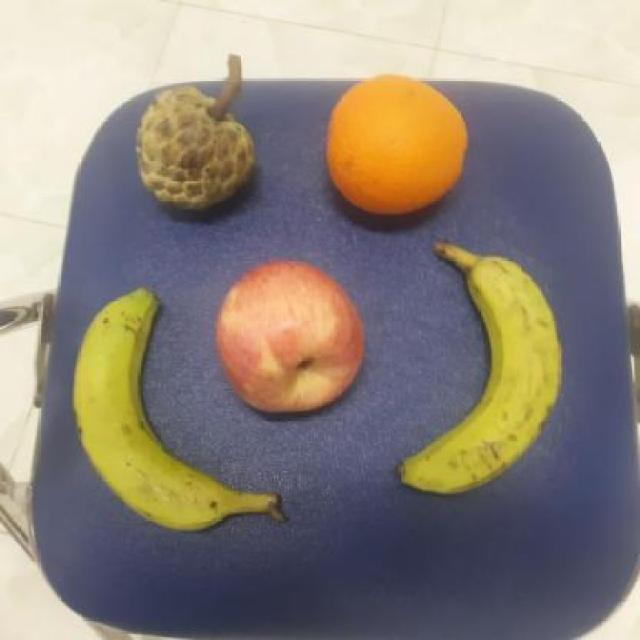apple: (213, 257, 364, 421)
banana: (72, 286, 286, 534), (397, 242, 571, 496)
oren: (322, 70, 472, 222)
sugar apple: (132, 81, 262, 221)
